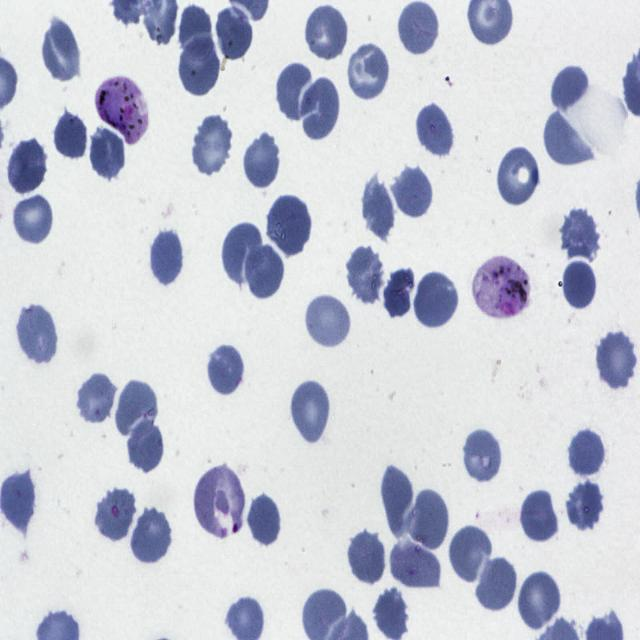difficult: (471, 256, 530, 321), (95, 74, 148, 143)
red blood cell: (193, 463, 246, 535), (264, 192, 313, 259), (389, 534, 441, 592), (406, 487, 451, 554), (176, 34, 222, 99), (517, 569, 563, 633), (221, 220, 265, 286), (346, 41, 392, 104), (300, 76, 342, 145), (40, 16, 82, 85), (543, 110, 592, 169), (414, 268, 461, 329), (15, 302, 59, 367), (274, 59, 318, 124), (496, 146, 542, 208), (304, 292, 353, 350), (290, 378, 331, 447), (114, 379, 158, 443), (344, 241, 388, 305), (303, 4, 349, 65), (191, 112, 234, 177), (129, 504, 174, 566), (594, 329, 638, 392), (448, 524, 493, 585), (378, 464, 415, 537), (243, 240, 286, 302), (475, 556, 519, 614), (360, 175, 397, 243), (414, 100, 455, 160), (75, 370, 118, 427), (462, 428, 504, 486), (6, 138, 48, 196), (94, 486, 136, 544), (216, 2, 254, 66), (558, 207, 602, 262), (398, 2, 440, 59), (347, 528, 388, 586), (392, 164, 434, 220), (244, 130, 282, 191), (12, 191, 54, 246), (519, 489, 560, 545), (126, 417, 166, 474), (206, 341, 246, 397), (149, 227, 185, 289), (1, 468, 34, 534), (380, 265, 418, 322), (246, 492, 283, 549), (90, 125, 127, 182), (566, 483, 608, 531), (559, 254, 596, 308), (53, 108, 89, 162), (569, 428, 607, 479), (179, 5, 213, 61), (550, 64, 590, 111), (374, 587, 409, 640)
